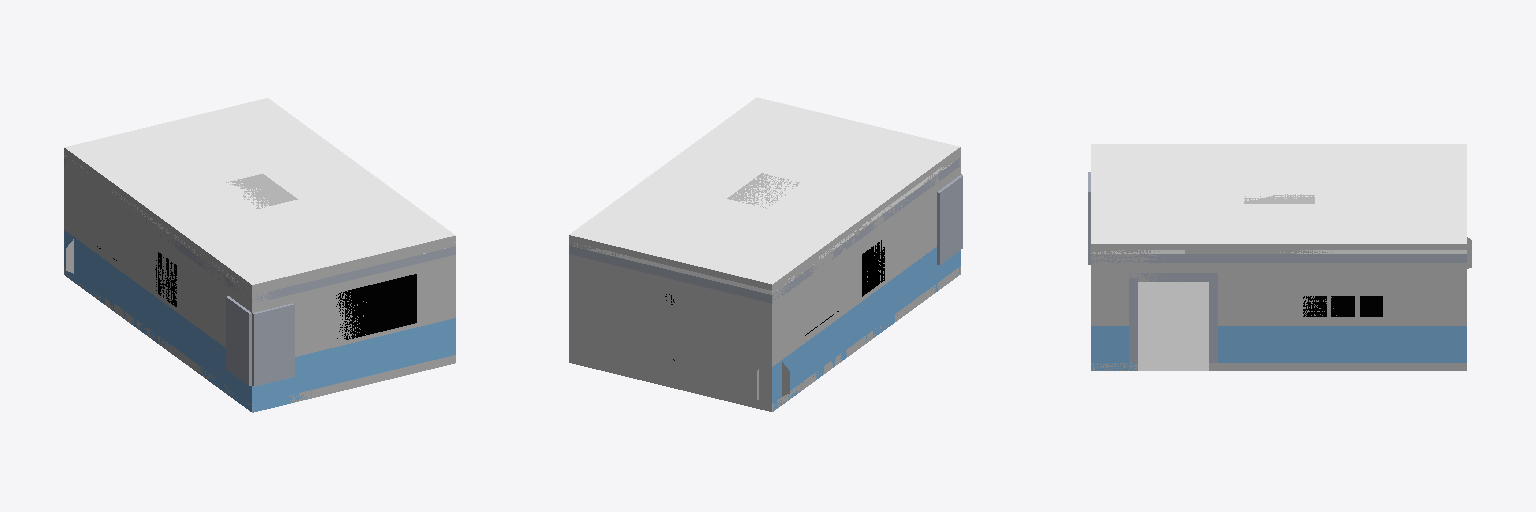
The model's file is InteriorWithNewSofa.obj.
3 renders of one model, left to right at view 1: azimuth 30°, elevation 25°; view 2: azimuth 150°, elevation 25°; view 3: azimuth 270°, elevation 25°, orthographic.
Parts seen in each view (by area): view 1: Plafon_Plane.005, Wall.001_Plane.001, Wall_Plane.004, Picture_Cube.168, Window.001_Cube.099, Window.002_Cube.011, UpperPlafon_Cube.006; view 2: Plafon_Plane.005, Wall.001_Plane.001, Wall.003_Plane.003, Misc_Cube.007, Misc.001_Cube.009, Window.002_Cube.011, Cermin_Cube.089, Cube.001_Cube.079, UpperPlafon_Cube.006; view 3: Plafon_Plane.005, Wall.002_Plane.002, Floor_Plane.
Part boxes in pixels (left/top/right/bottom): Plafon_Plane.005: left=64, top=98, right=455, bottom=284; Wall.001_Plane.001: left=64, top=148, right=251, bottom=411; Wall_Plane.004: left=252, top=236, right=455, bottom=412; Picture_Cube.168: left=336, top=274, right=416, bottom=339; Window.001_Cube.099: left=252, top=303, right=294, bottom=386; Window.002_Cube.011: left=226, top=296, right=251, bottom=385; UpperPlafon_Cube.006: left=226, top=174, right=297, bottom=208; Plafon_Plane.005: left=569, top=97, right=959, bottom=284; Wall.001_Plane.001: left=772, top=147, right=960, bottom=411; Wall.003_Plane.003: left=569, top=235, right=771, bottom=403; Misc_Cube.007: left=726, top=293, right=745, bottom=396; Misc.001_Cube.009: left=595, top=261, right=615, bottom=365; Window.002_Cube.011: left=937, top=175, right=962, bottom=264; Cermin_Cube.089: left=862, top=240, right=884, bottom=296; Cube.001_Cube.079: left=574, top=243, right=813, bottom=294; UpperPlafon_Cube.006: left=727, top=173, right=799, bottom=208; Plafon_Plane.005: left=1091, top=144, right=1466, bottom=243; Wall.002_Plane.002: left=1091, top=244, right=1466, bottom=370; Floor_Plane: left=1138, top=282, right=1208, bottom=370.
Size of the model in its own units: 5.19 by 3 by 8.17.